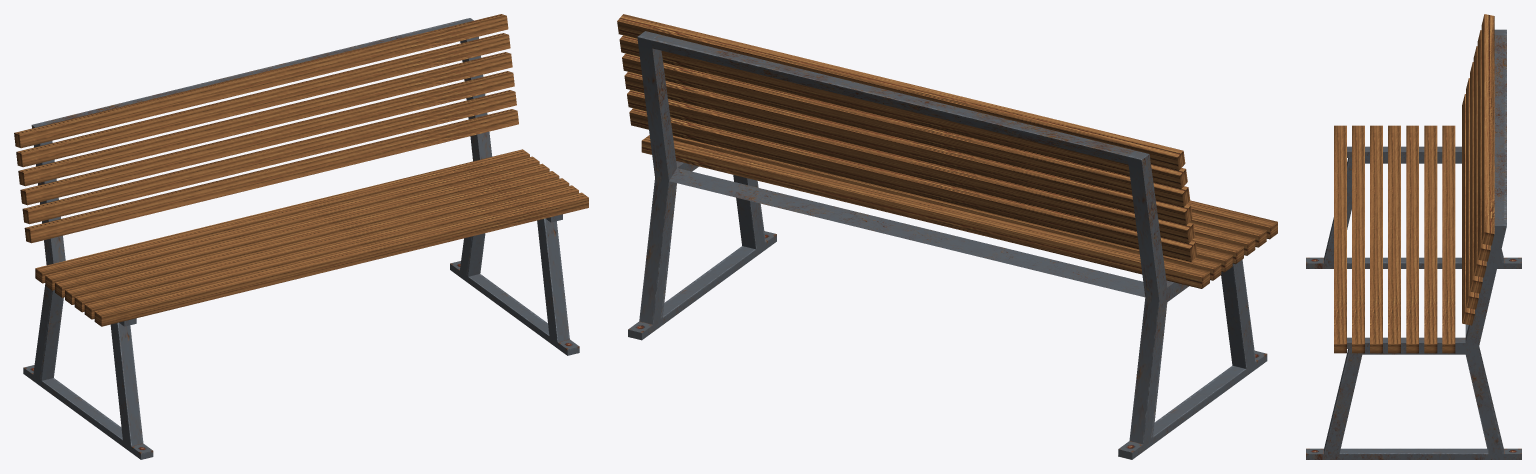
Rendered from Park-Bank.fbx.
3 renders of one model, left to right at view 1: azimuth 30°, elevation 25°; view 2: azimuth 150°, elevation 25°; view 3: azimuth 270°, elevation 25°, orthographic. The views are drawn at different scales.
Parts seen in each view (by area): view 1: Park_Bank; view 2: Park_Bank; view 3: Park_Bank.
Boxes of the visible parts, bbox=[...] form: Park_Bank: bbox=[14, 14, 588, 459]; Park_Bank: bbox=[617, 14, 1277, 459]; Park_Bank: bbox=[1306, 14, 1521, 459].
Size of the model in its own units: 200 by 102 by 83.58.
